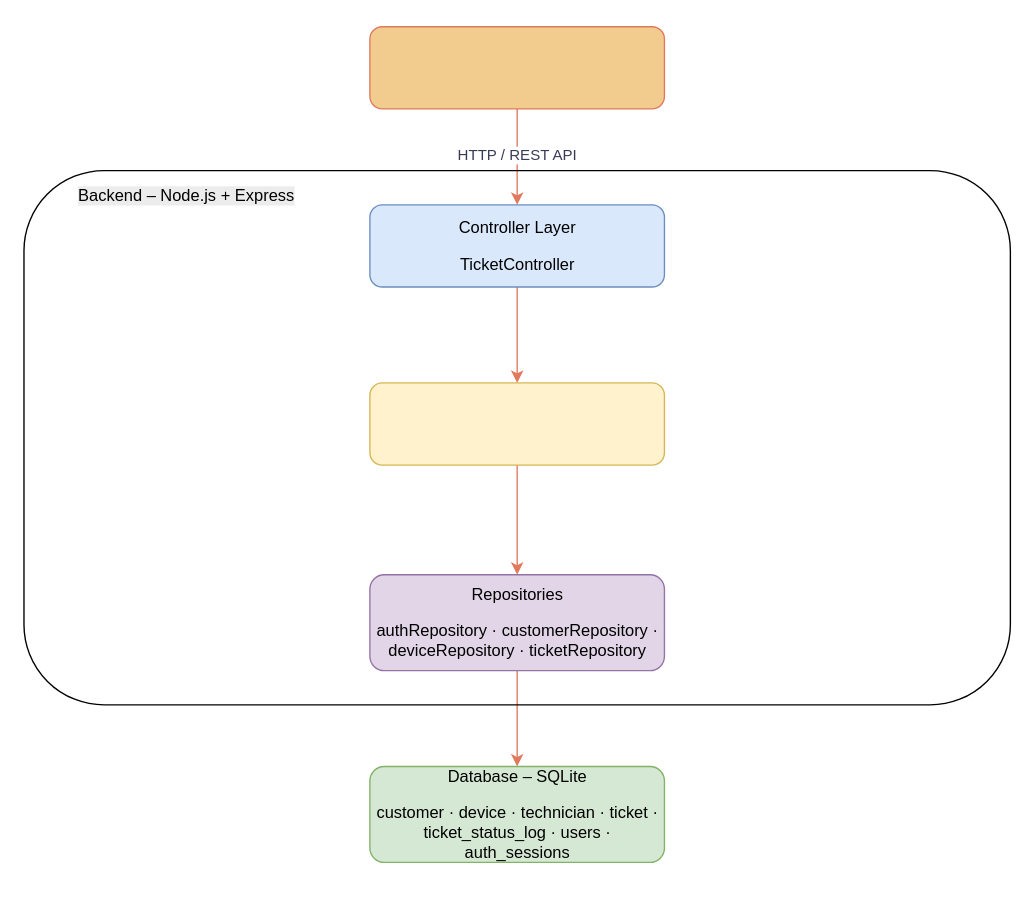
This 1034x903 diagram has some shape labels left out. Here are the shapes that lost their labels. From the top down, the centre of each, then its label:
At (x=516, y=67): "Presentation Layer Giao diện Web".
At (x=516, y=423): "Services authService · customerService · deviceService · ticketService".
